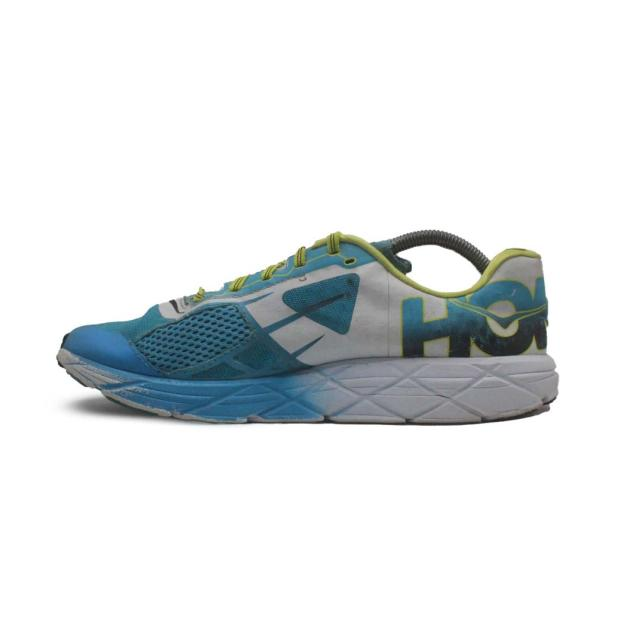heel: (472, 252, 547, 359)
midsole: (56, 343, 556, 424)
uppersole: (62, 231, 478, 385)
